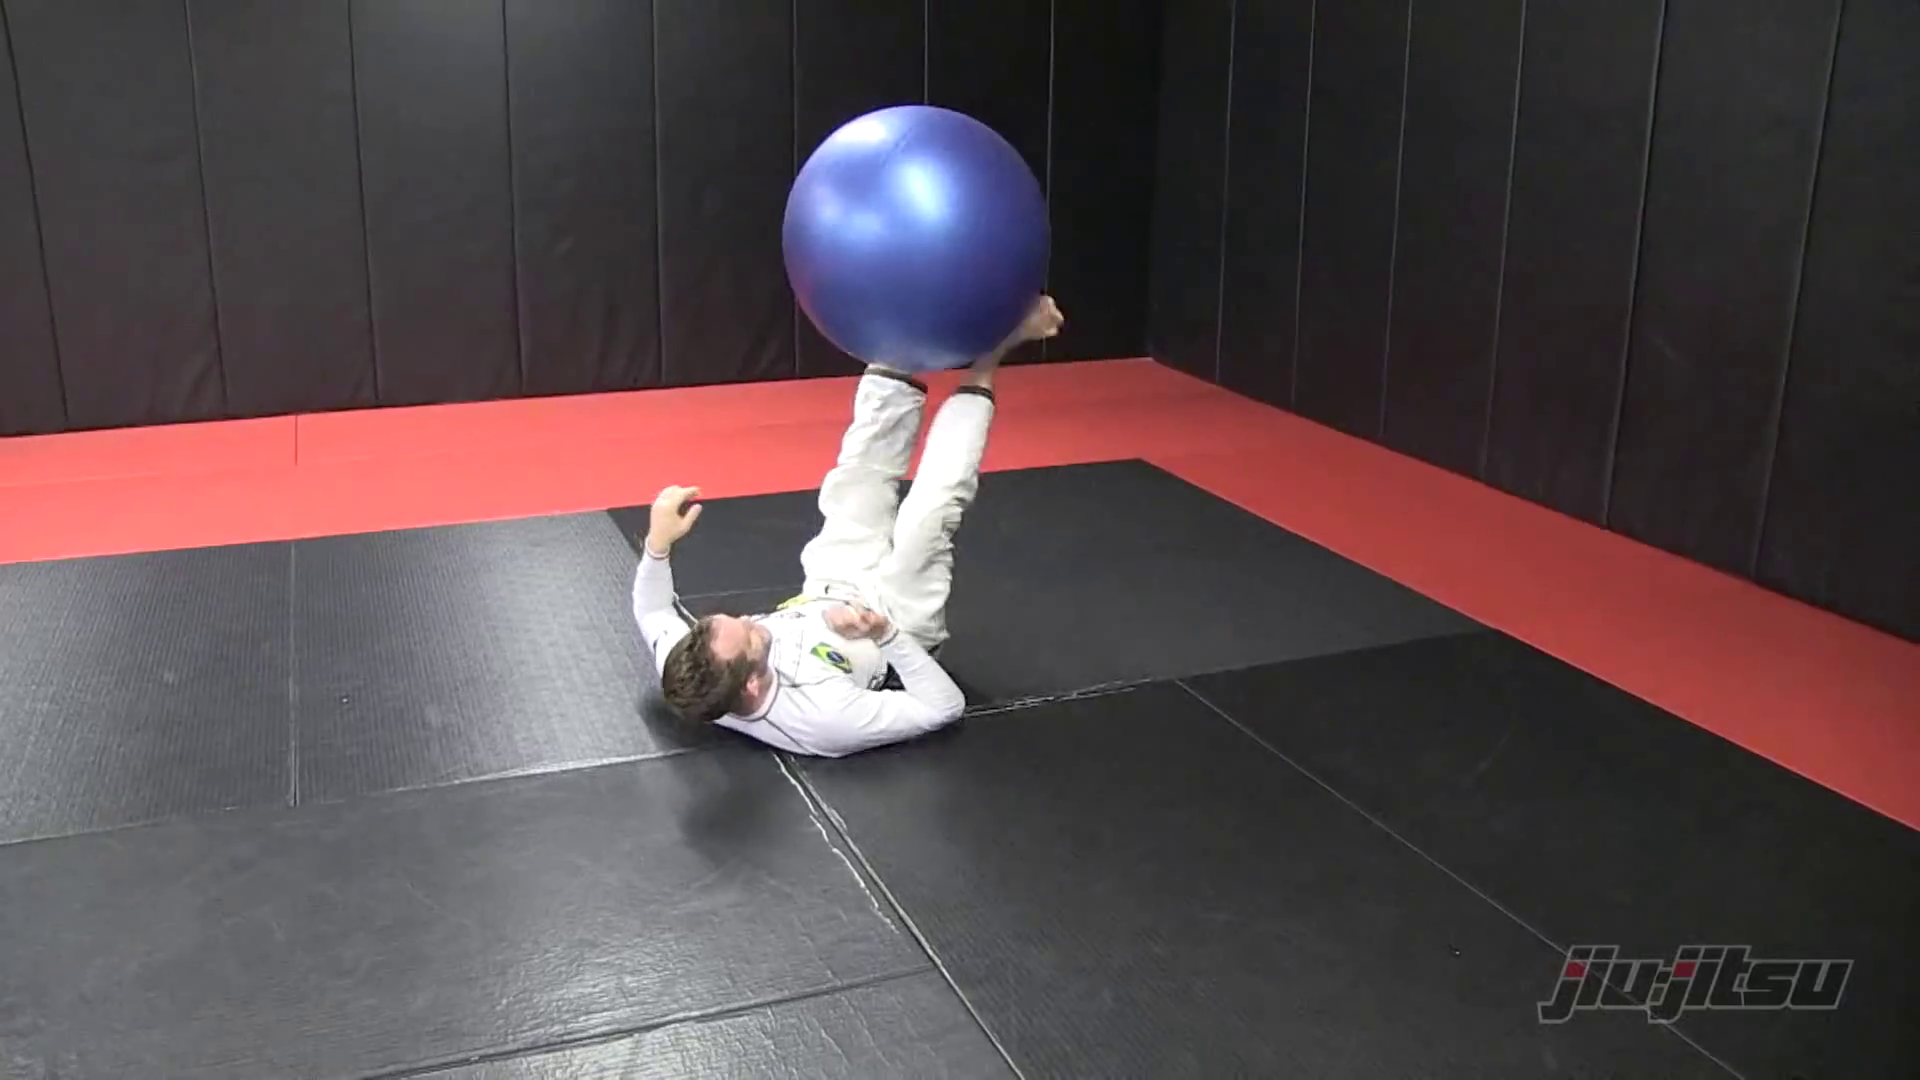yogaball: (778, 95, 1060, 384)
